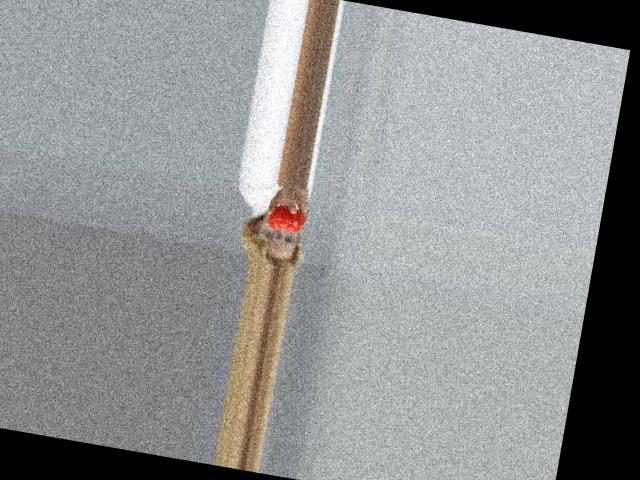tomato: (266, 203, 306, 233)
